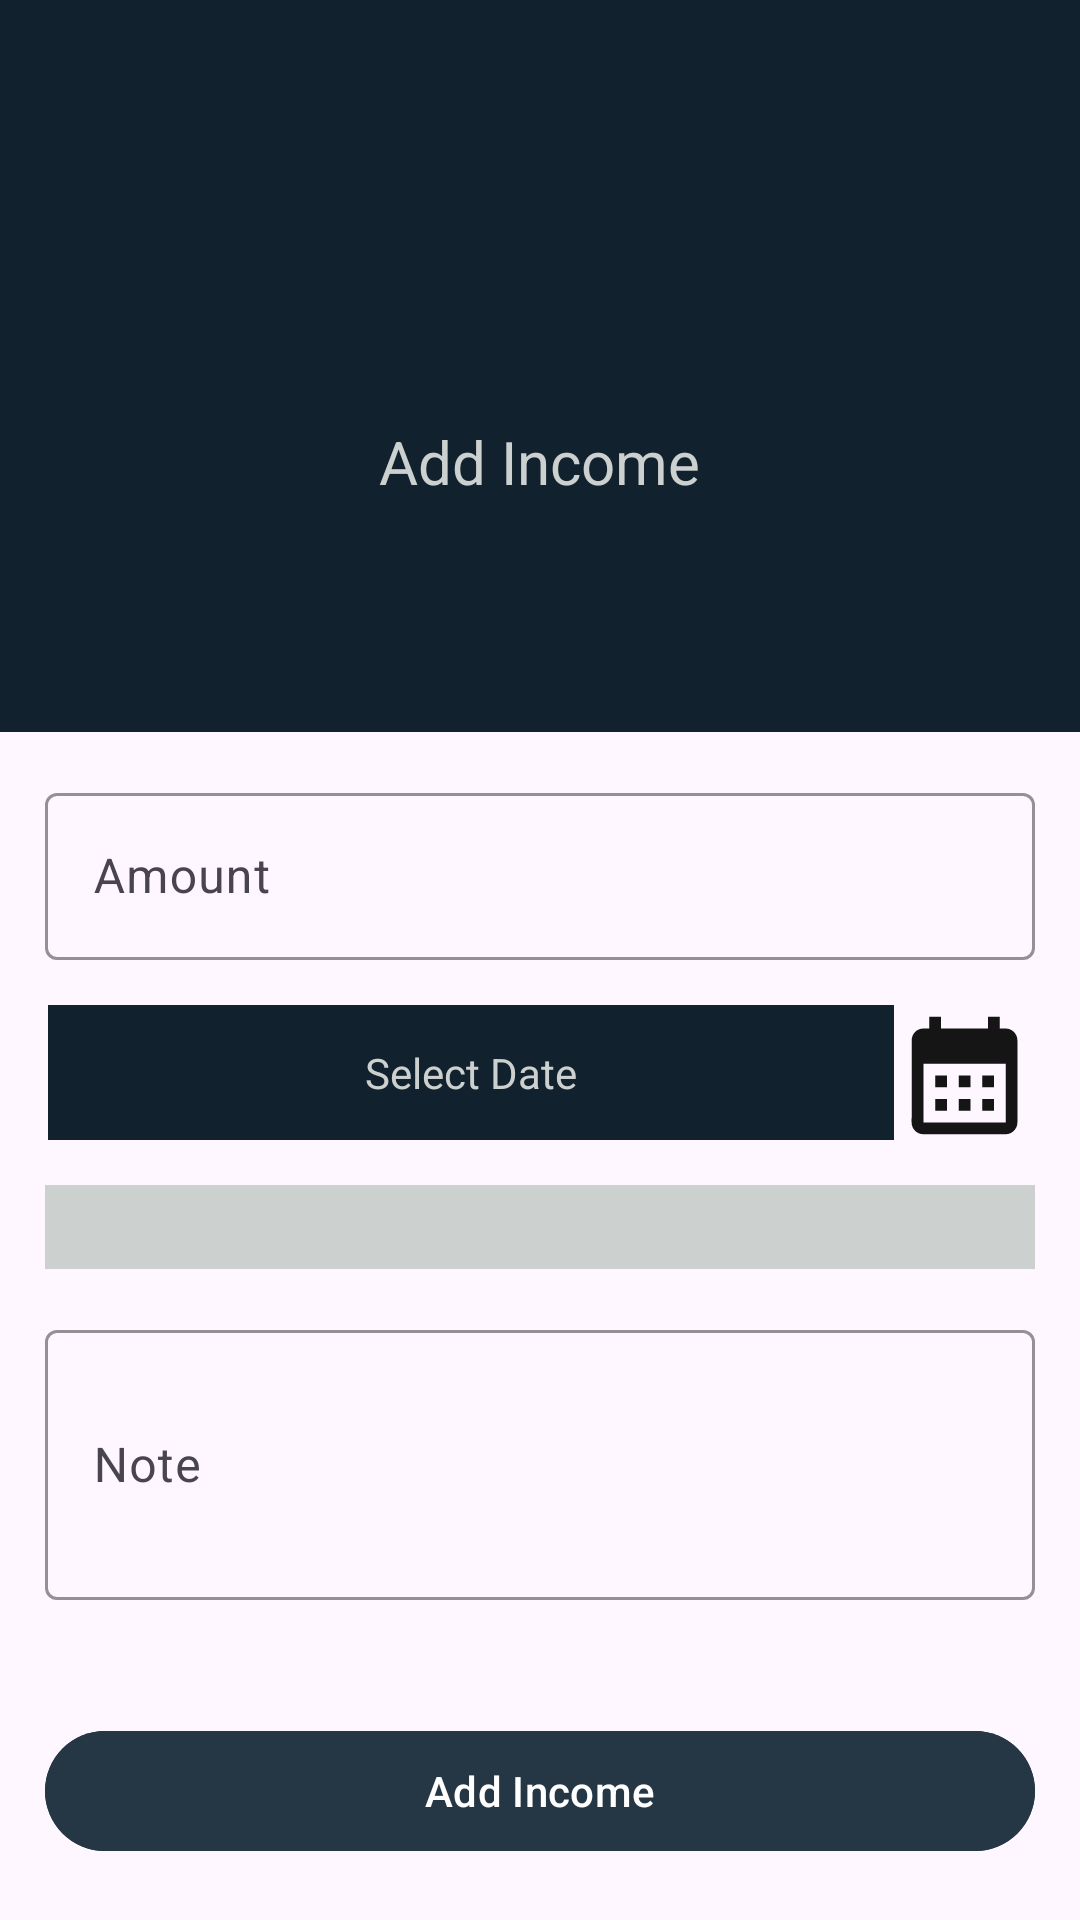

Where icons sit on this 1080w x 1920h app screen, as bbox=[x1, y1, x2, y2]:
calendar month: bbox=[911, 1016, 1018, 1135]
